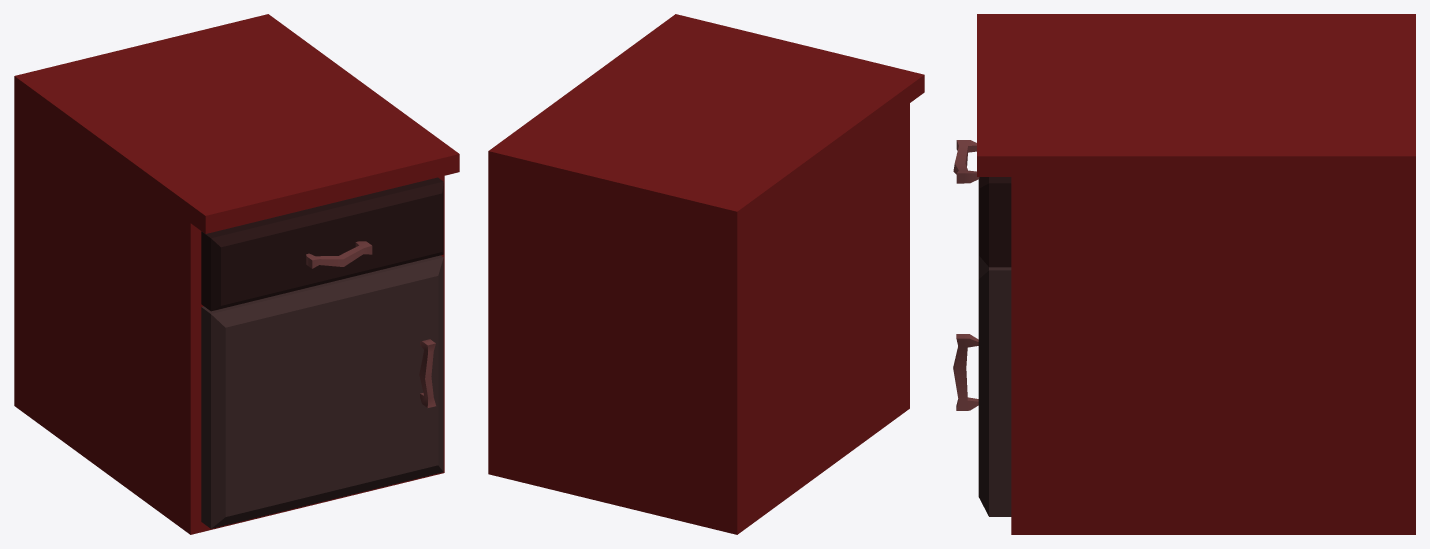
Rendered from counter_2.fbx.
3 renders of one model, left to right at view 1: azimuth 30°, elevation 25°; view 2: azimuth 150°, elevation 25°; view 3: azimuth 270°, elevation 25°, orthographic. The views are drawn at different scales.
Visible parts, largest first — view 1: counter_2_base_low, counter_2_door_low, counter_2_drawer_low, counter_handle_low; view 2: counter_2_base_low; view 3: counter_2_base_low, counter_2_door_low, counter_2_drawer_low, counter_handle_low.
Part boxes in pixels (x1,y1,x2,y2): counter_2_base_low: (14,14,459,534); counter_2_door_low: (201,255,443,528); counter_2_drawer_low: (201,177,443,311); counter_handle_low: (306,241,435,407); counter_2_base_low: (488,14,924,534); counter_2_base_low: (977,14,1415,534); counter_2_door_low: (978,179,1011,516); counter_2_drawer_low: (979,177,1011,267); counter_handle_low: (953,140,979,410).
Bounding box in the file's own units: 5.03 × 6.25 × 6.92.
